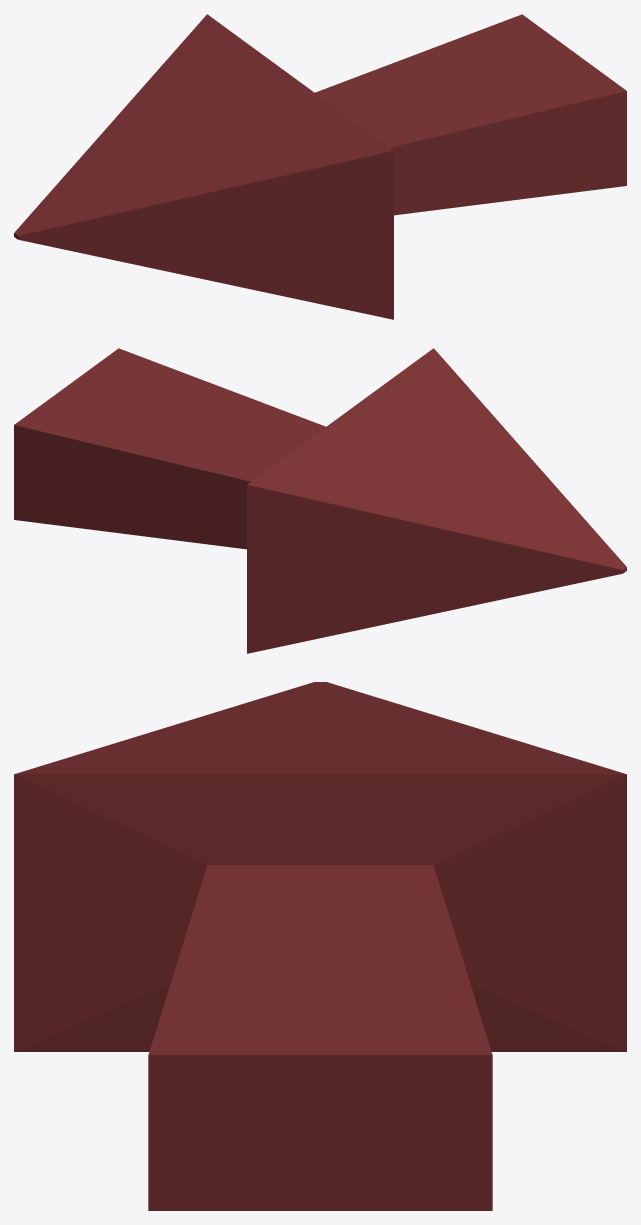
The model's file is Arrow.fbx.
3 renders of one model, top to bottom at view 1: azimuth 30°, elevation 25°; view 2: azimuth 150°, elevation 25°; view 3: azimuth 270°, elevation 25°, orthographic. The views are drawn at different scales.
Parts seen in each view (by area): view 1: Cube.001; view 2: Cube.001; view 3: Cube.001.
Part boxes in pixels (left/top/right/bottom): Cube.001: left=14, top=14, right=626, bottom=319; Cube.001: left=14, top=348, right=626, bottom=653; Cube.001: left=14, top=682, right=626, bottom=1210.
Bounding box in the file's own units: 938 × 271 × 542.
